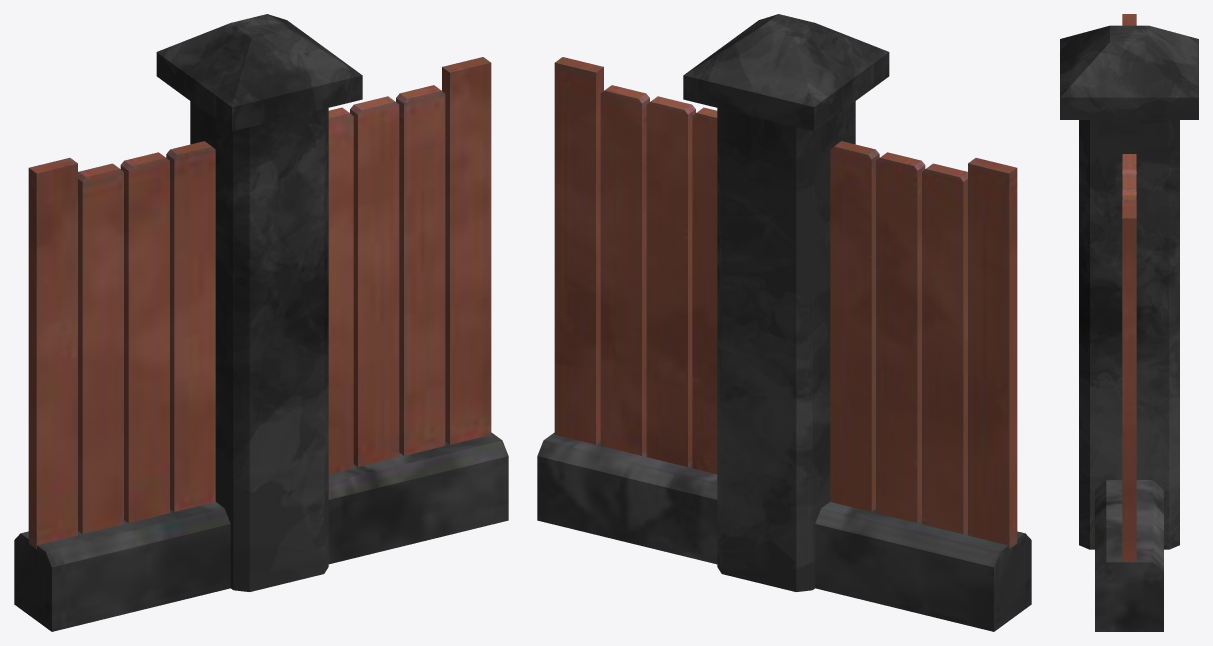
File: fence_2m.glb
3 renders of one model, left to right at view 1: azimuth 30°, elevation 25°; view 2: azimuth 150°, elevation 25°; view 3: azimuth 270°, elevation 25°, orthographic. The views are drawn at different scales.
Parts seen in each view (by area): view 1: Stolb_Black; view 2: Stolb_Black; view 3: Stolb_Black.
Boxes of the visible parts, x1,y1,x2,y2 form: Stolb_Black: (14, 14, 508, 631); Stolb_Black: (537, 14, 1031, 631); Stolb_Black: (1060, 14, 1198, 631).
Bounding box in the file's own units: 2 × 2.24 × 0.5704.
Materials: 1 (1 with a texture image).
